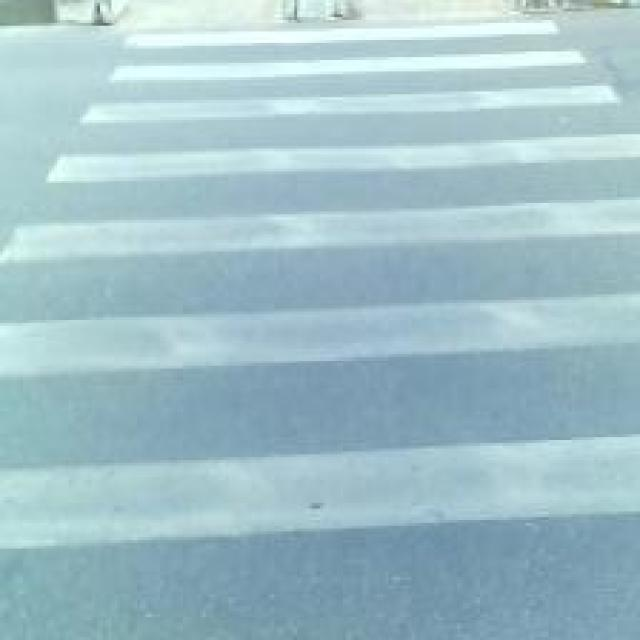walk-crossing: (44, 36, 573, 639)
